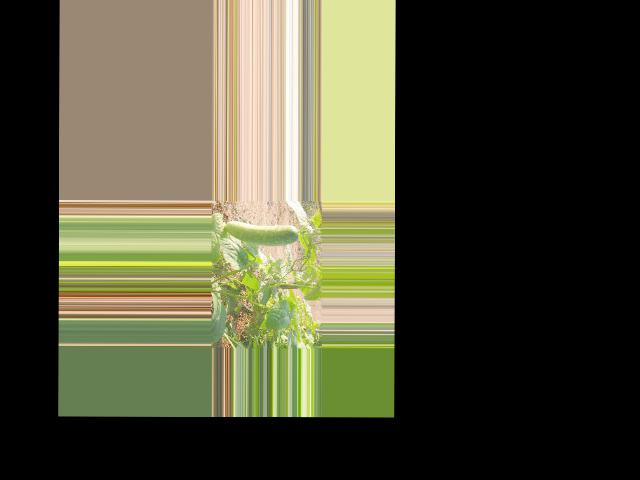cucumber: (225, 220, 297, 246)
